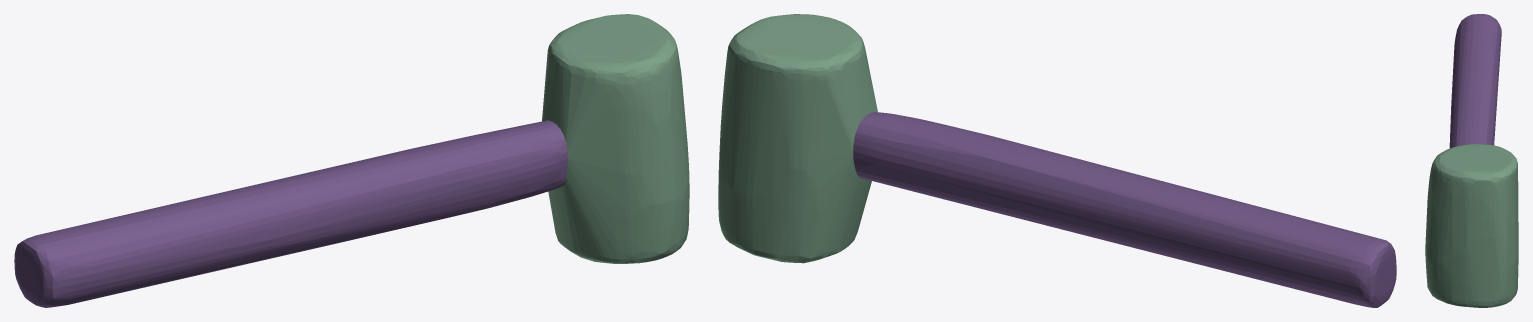
The model's file is mallet_hammer.obj.
3 renders of one model, left to right at view 1: azimuth 30°, elevation 25°; view 2: azimuth 150°, elevation 25°; view 3: azimuth 270°, elevation 25°, orthographic. The views are drawn at different scales.
Visible parts, largest first — view 1: geometry_1, geometry_0; view 2: geometry_1, geometry_0; view 3: geometry_0, geometry_1.
Part boxes in pixels (left/top/right/bottom): geometry_1: left=14, top=120, right=567, bottom=307; geometry_0: left=542, top=14, right=689, bottom=263; geometry_1: left=853, top=112, right=1396, bottom=307; geometry_0: left=718, top=14, right=877, bottom=263; geometry_0: left=1425, top=144, right=1518, bottom=307; geometry_1: left=1449, top=14, right=1501, bottom=148.
Size of the model in its own units: 0.3001 by 0.0896 by 0.0566.
